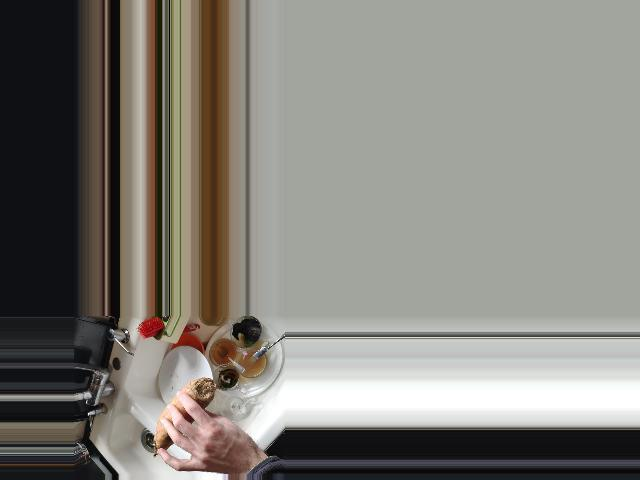sweet_potato: (153, 380, 215, 458)
